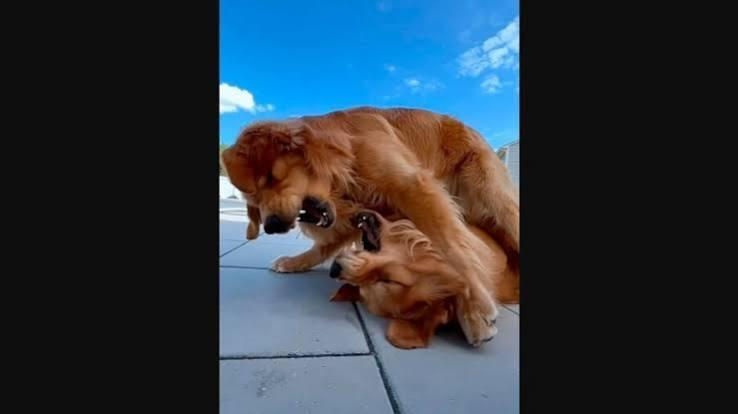adult_dog: (221, 106, 519, 347), (271, 201, 520, 350)
